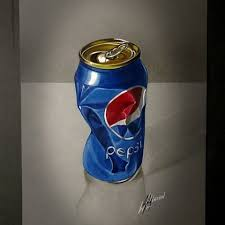can: (74, 35, 156, 188)
